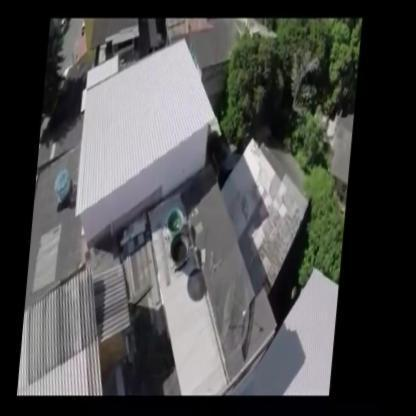agua: (175, 234, 193, 264), (170, 207, 189, 231)
